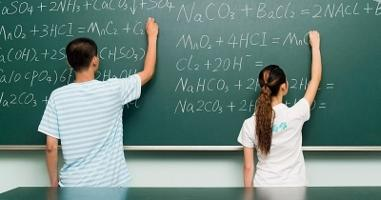person: (38, 17, 160, 188)
